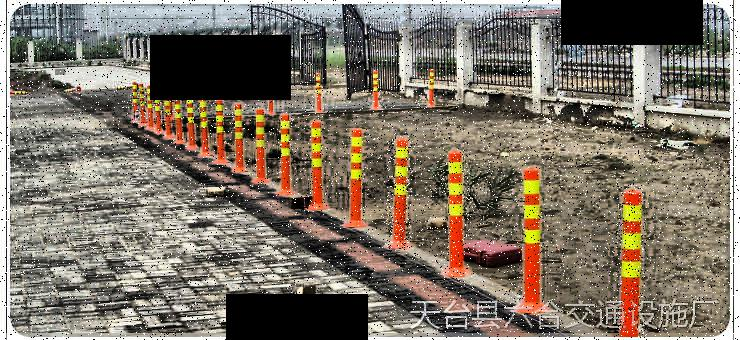bench: (616, 183, 647, 338), (518, 160, 547, 314), (441, 148, 472, 277), (387, 138, 412, 250)
